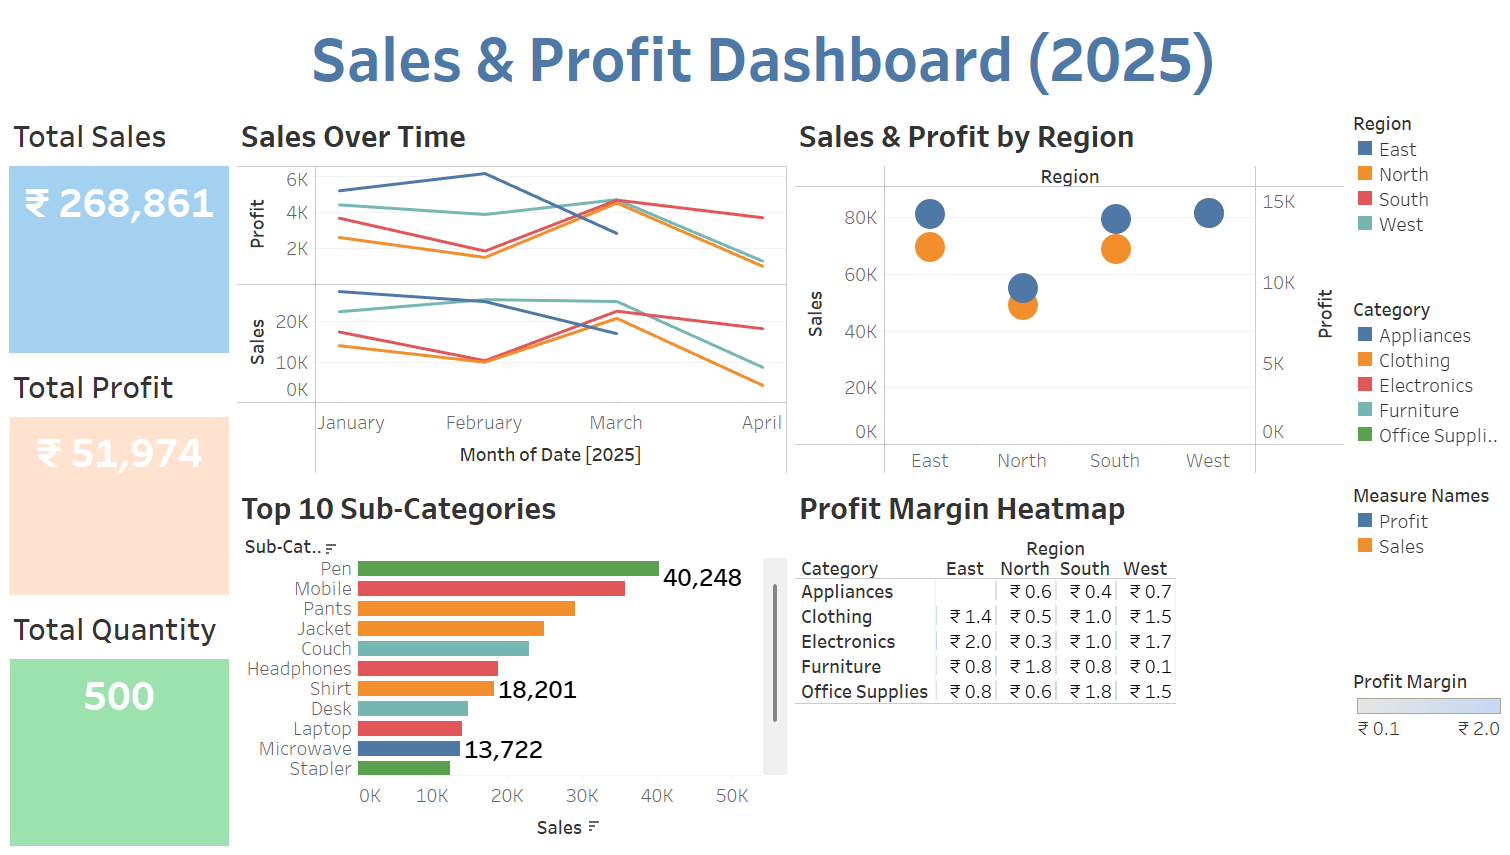

What the dashboard file says about the page in this screenshot:
{"tool":"tableau","page":{"name":"Dashboard","canvas":[1000,1000],"units":"permille","ordinal":0},"visuals":[{"type":"text","box":[5.3,9.3,989.5,116.3]},{"type":"worksheet","title":"Total Sales","mark":"Text","rows":["Sales"],"box":[5.3,125.6,150,291.9]},{"type":"worksheet","title":"Sales Over Time","mark":"Automatic","rows":["Profit","Sales"],"cols":["Date"],"box":[155.3,125.6,367.1,432.6]},{"type":"worksheet","title":"Sales & Profit by Region","mark":"Automatic","rows":["Sales","Profit"],"cols":["Region"],"box":[522.4,125.6,367.1,432.6]},{"type":"legend","title":"Sales Over Time","param":"[federated.0s152gr0ycz0s61etsumx14ye7ub].[none:Region:nk]","box":[889.5,125.6,105.3,216.3]},{"type":"legend","title":"Top 10 Sub-Categories","param":"[federated.0s152gr0ycz0s61etsumx14ye7ub].[none:Category:nk]","box":[889.5,341.9,105.3,216.3]},{"type":"worksheet","title":"Total Profit","mark":"Text","rows":["Profit"],"box":[5.3,417.4,150,281.4]},{"type":"worksheet","title":"Top 10 Sub-Categories","mark":"Bar","rows":["Sub-Category"],"cols":["Sales"],"box":[155.3,558.1,367.1,432.6]},{"type":"worksheet","title":"Profit Margin Heatmap","mark":"Bar","rows":["Category"],"cols":["Region"],"box":[522.4,558.1,367.1,432.6]},{"type":"legend","title":"Sales & Profit by Region","param":"[federated.0s152gr0ycz0s61etsumx14ye7ub].[:Measure Names]","box":[889.5,558.1,105.3,216.3]},{"type":"worksheet","title":"Total Quantity","mark":"Text","rows":["Quantity"],"box":[5.3,698.8,150,291.9]},{"type":"legend","title":"Profit Margin Heatmap","param":"[federated.0s152gr0ycz0s61etsumx14ye7ub].[sum:Calculation_513128899006070784:qk]","box":[889.5,774.4,105.3,216.3]}]}

Visuals, with their boxes on the dashboard's canvas, which has no fixed pixel size, in thousandths of its width and height (x1, y1, x2, y2). These are canvas units, not pixel positions in the 1510x855 screenshot, which may show the page scaled, cropped or inside an application window:
text: 5,9,995,126
"Total Sales" worksheet (Text marks): 5,126,155,418
"Sales Over Time" worksheet: 155,126,522,558
"Sales & Profit by Region" worksheet: 522,126,890,558
"Sales Over Time" legend: 890,126,995,342
"Top 10 Sub-Categories" legend: 890,342,995,558
"Total Profit" worksheet (Text marks): 5,417,155,699
"Top 10 Sub-Categories" worksheet (Bar marks): 155,558,522,991
"Profit Margin Heatmap" worksheet (Bar marks): 522,558,890,991
"Sales & Profit by Region" legend: 890,558,995,774
"Total Quantity" worksheet (Text marks): 5,699,155,991
"Profit Margin Heatmap" legend: 890,774,995,991
